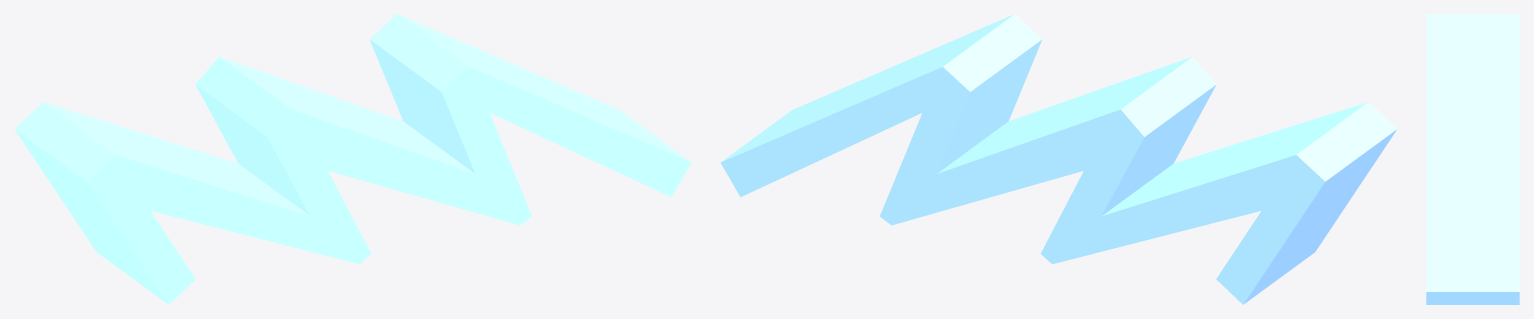
Rendered from waterrune.fbx.
The picture shows the model from 3 angles, left to right: view 1: azimuth 30°, elevation 25°; view 2: azimuth 150°, elevation 25°; view 3: azimuth 270°, elevation 25°; orthographic projection. The views are drawn at different scales.
Visible parts, largest first — view 1: Cube; view 2: Cube; view 3: Cube.
Boxes of the visible parts, <box> form: Cube: <box>14,14,691,304</box>; Cube: <box>720,14,1397,304</box>; Cube: <box>1426,14,1519,304</box>.
Bounding box in the file's own units: 495 × 141 × 102.
